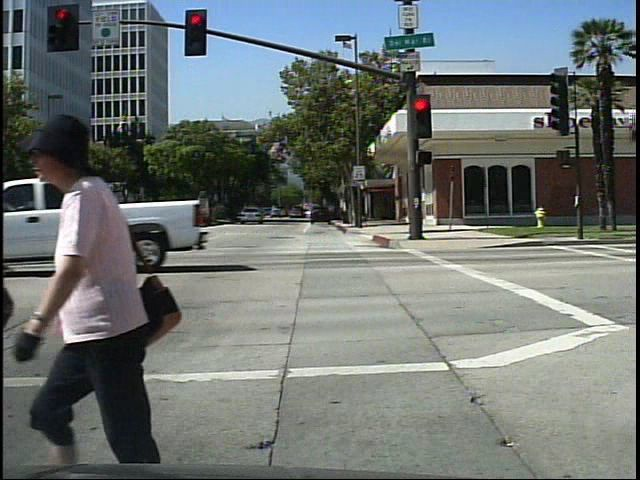person: (14, 109, 192, 470)
